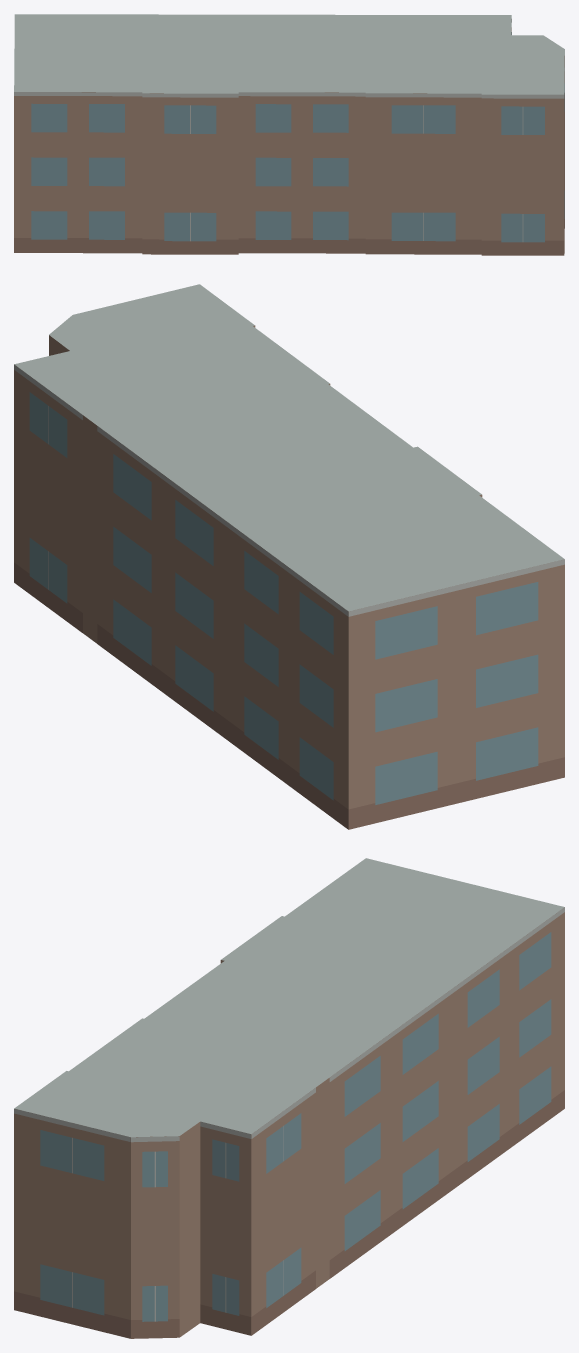
The model's file is survey-upis-32859459.glb.
3 views of the same model, one above another, from view 1: azimuth 30°, elevation 25°; view 2: azimuth 150°, elevation 25°; view 3: azimuth 270°, elevation 25° (orthographic). The views are drawn at different scales.
Visible parts, largest first — view 1: survey-upis-32859459.tmp; view 2: survey-upis-32859459.tmp; view 3: survey-upis-32859459.tmp.
Boxes of the visible parts, box(x1,y1,x2,y2) form: survey-upis-32859459.tmp: box(14, 14, 564, 255); survey-upis-32859459.tmp: box(14, 284, 564, 829); survey-upis-32859459.tmp: box(14, 858, 564, 1338).
Size of the model in its own units: 29.41 by 9.9 by 24.53.
